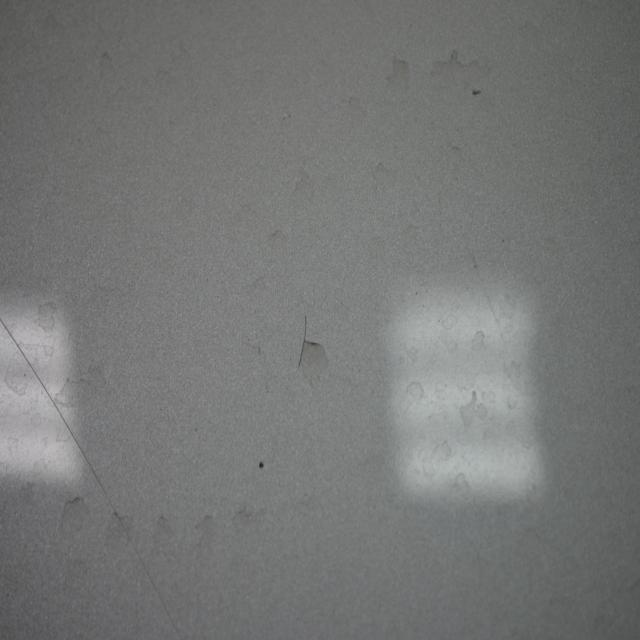dirt: (258, 456, 266, 473), (472, 87, 482, 98)
scratch: (297, 307, 312, 374)
water marks: (2, 330, 58, 404), (431, 47, 491, 99), (52, 368, 102, 421), (55, 493, 94, 549), (498, 355, 530, 420), (380, 50, 414, 104), (101, 504, 135, 557), (191, 504, 225, 556), (147, 506, 177, 556), (302, 334, 332, 384), (458, 390, 491, 434), (289, 170, 319, 216), (92, 47, 119, 94), (371, 156, 399, 201), (423, 436, 454, 476), (33, 299, 62, 335), (404, 375, 429, 406), (470, 327, 488, 361), (454, 468, 472, 499)
